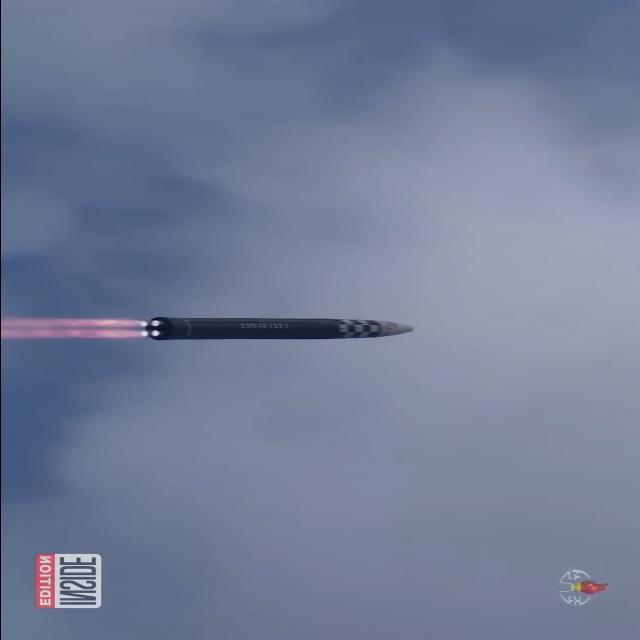Missile: (130, 315, 412, 341)
